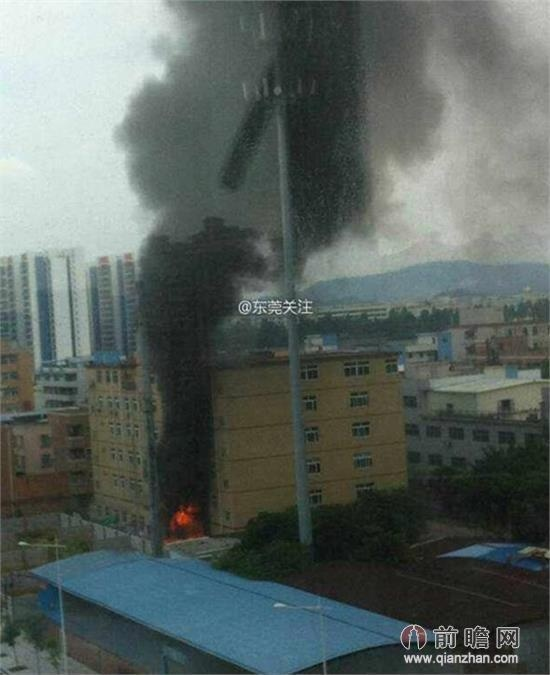fire: (166, 502, 203, 540)
